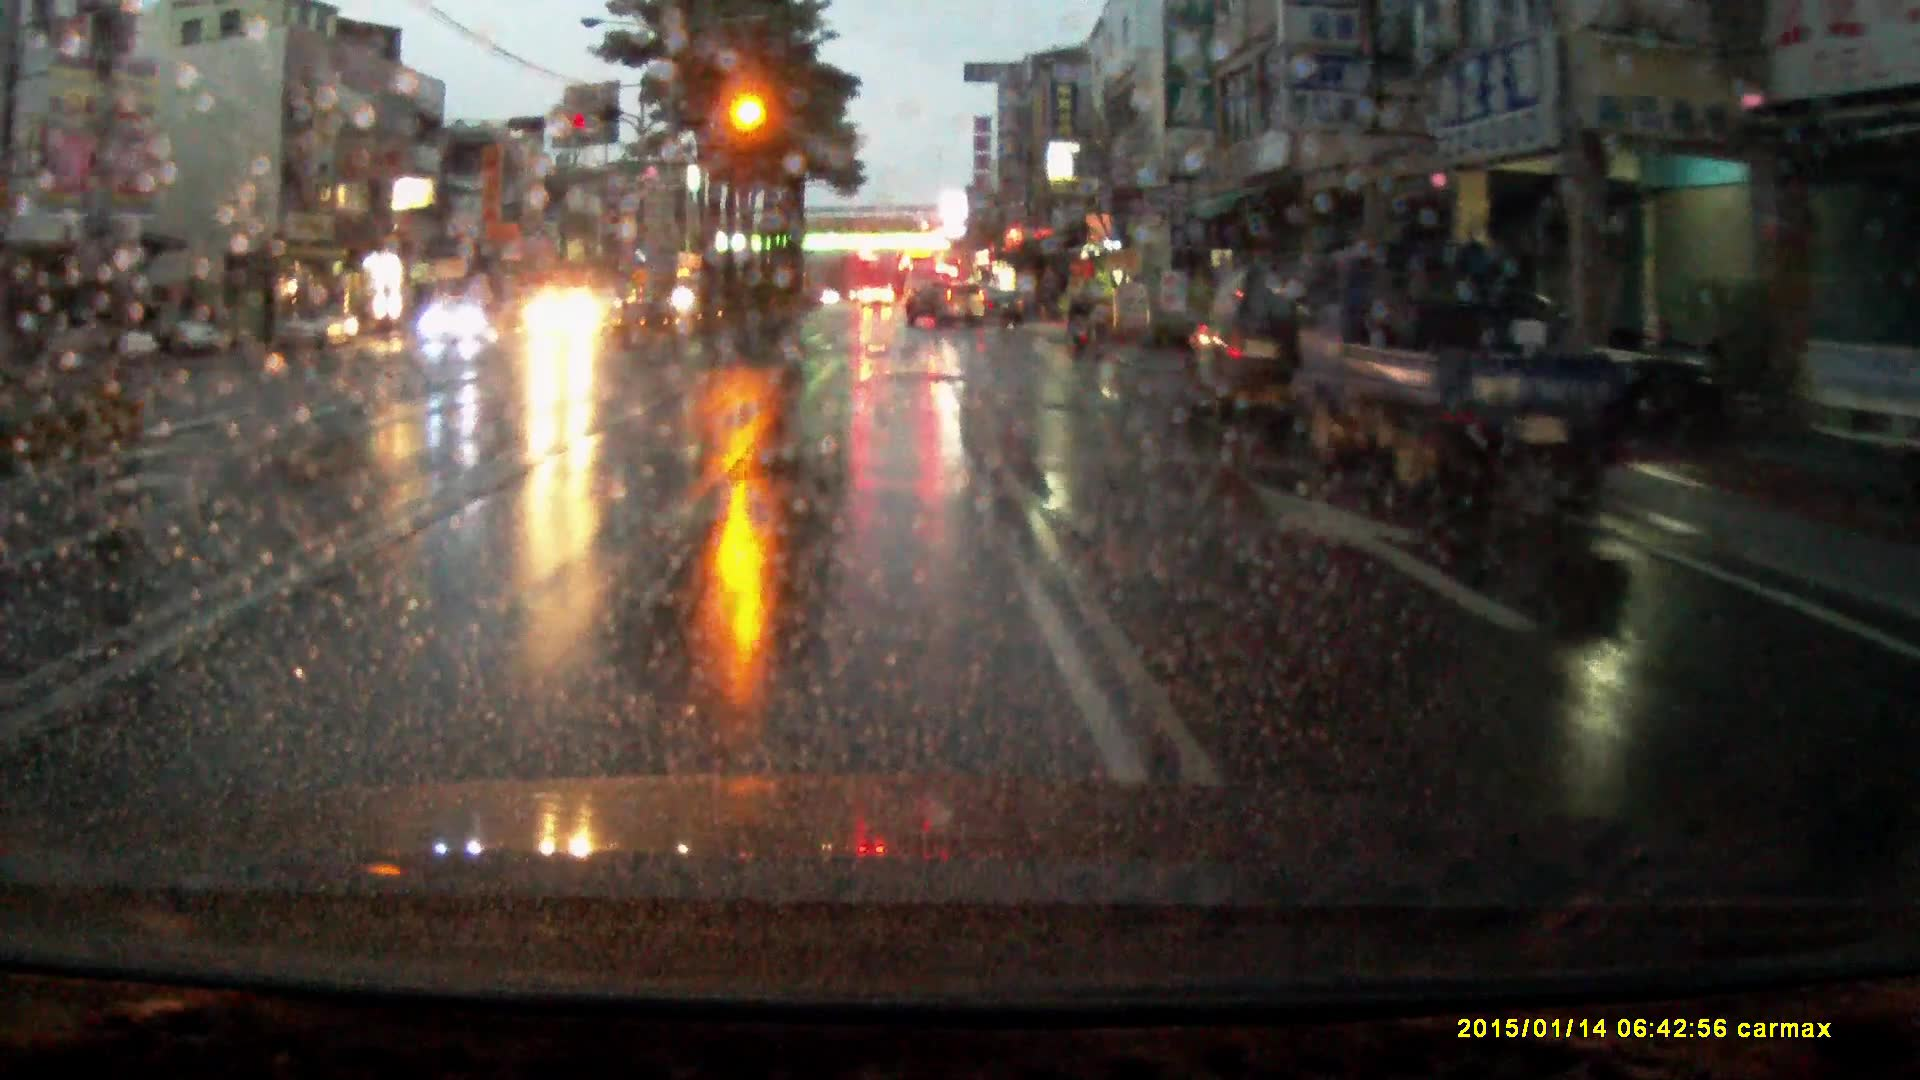vehicle: (1309, 236, 1647, 504), (1191, 258, 1320, 439), (29, 307, 140, 367), (527, 286, 608, 352), (277, 299, 363, 353), (905, 277, 985, 327), (421, 297, 491, 345), (164, 305, 225, 357), (905, 258, 942, 307), (984, 287, 1026, 326), (861, 280, 897, 309)
